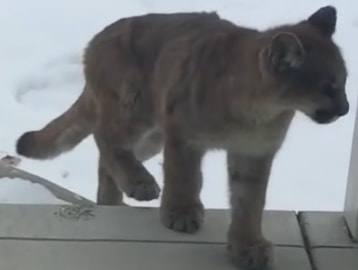Mountain Lion: (9, 7, 354, 260)
